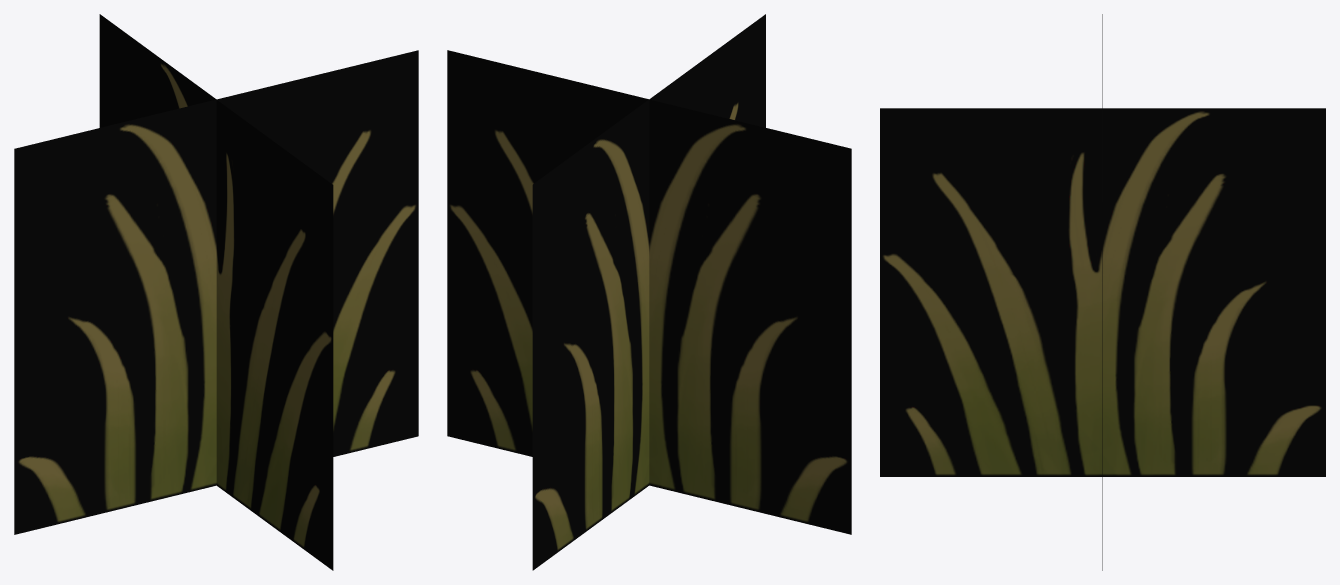
The model's file is Grass_1.FBX.
3 views of the same model, side by side, from view 1: azimuth 30°, elevation 25°; view 2: azimuth 150°, elevation 25°; view 3: azimuth 270°, elevation 25° (orthographic). The views are drawn at different scales.
Parts seen in each view (by area): view 1: Grass_1; view 2: Grass_1; view 3: Grass_1.
Part boxes in pixels (x1,y1,x2,y2): Grass_1: (14,14,418,570); Grass_1: (447,14,851,570); Grass_1: (880,14,1325,570).
Bounding box in the file's own units: 43.84 × 40 × 43.84.
